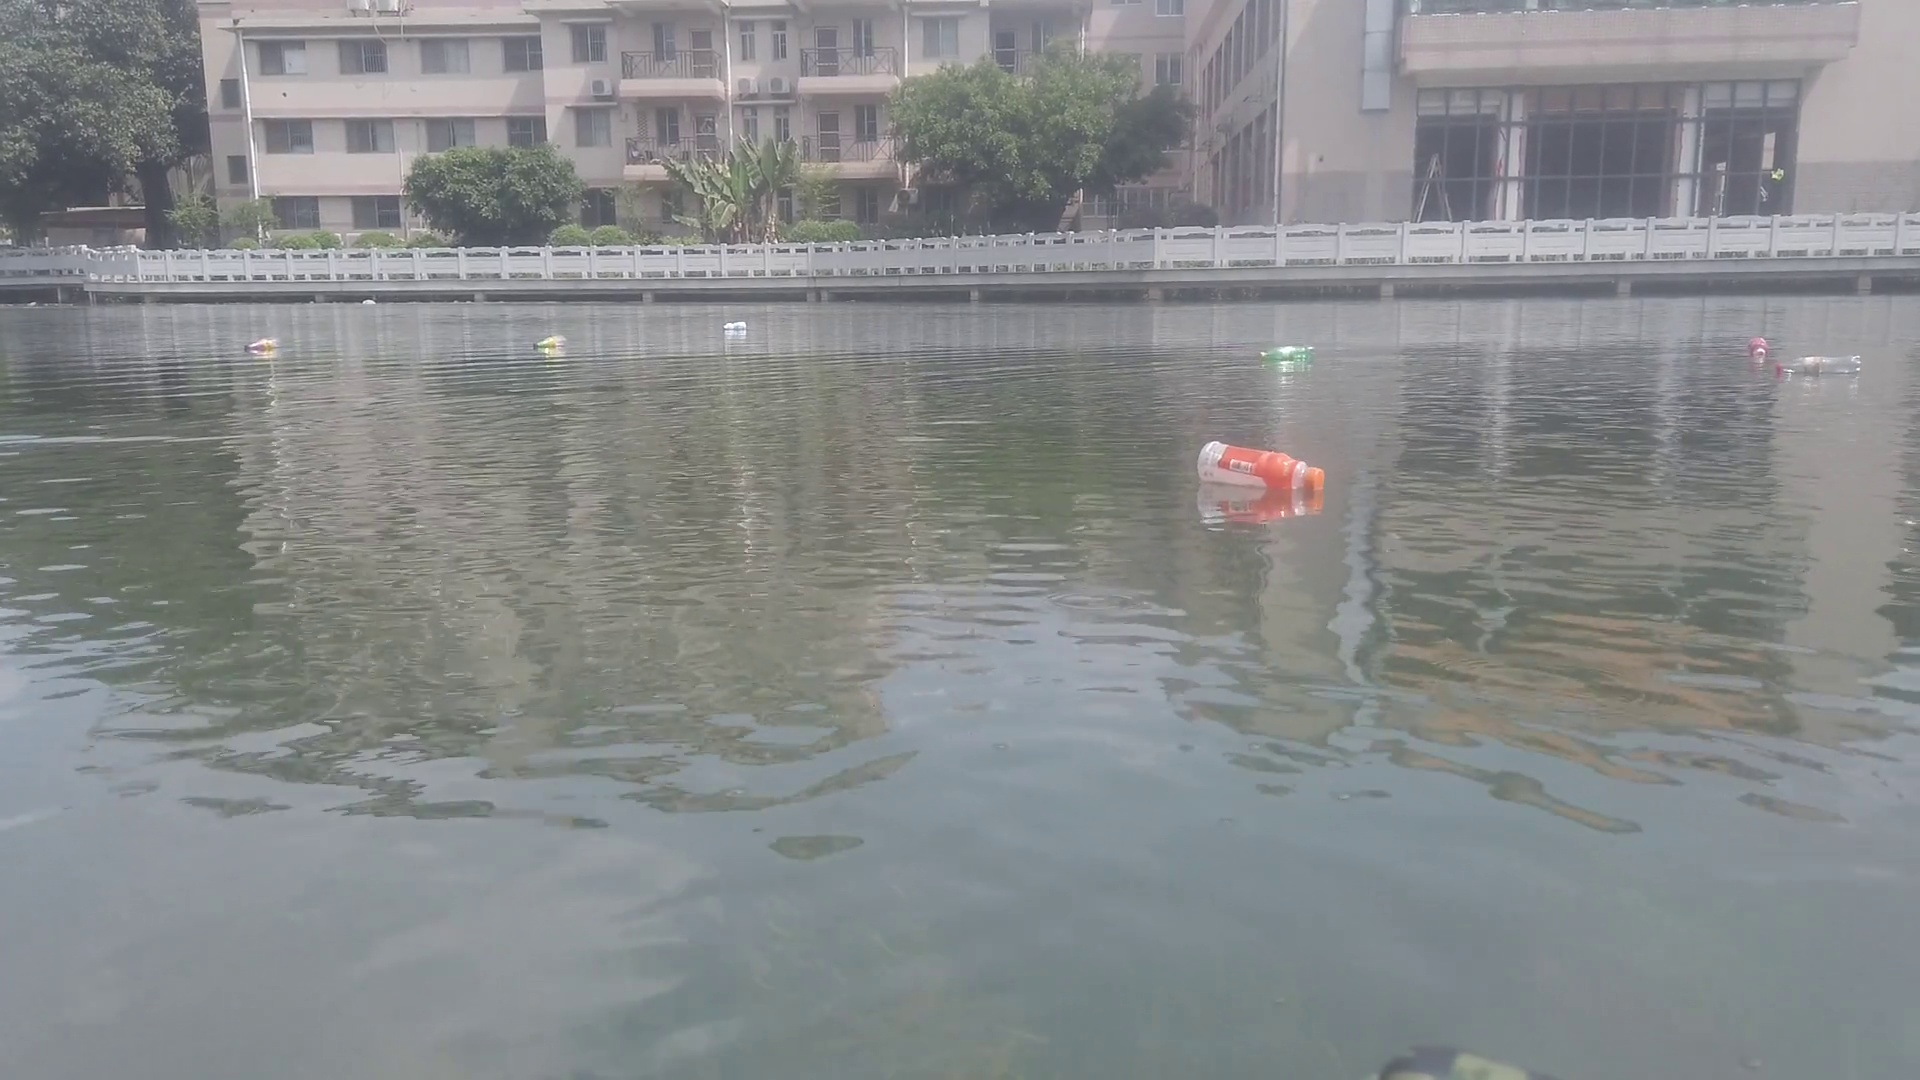bottle: (1192, 439, 1327, 492), (1776, 352, 1863, 378), (1255, 338, 1312, 363), (241, 334, 280, 353), (531, 332, 568, 351), (1746, 334, 1770, 357), (719, 316, 746, 332)
plastic: (363, 298, 378, 305)
